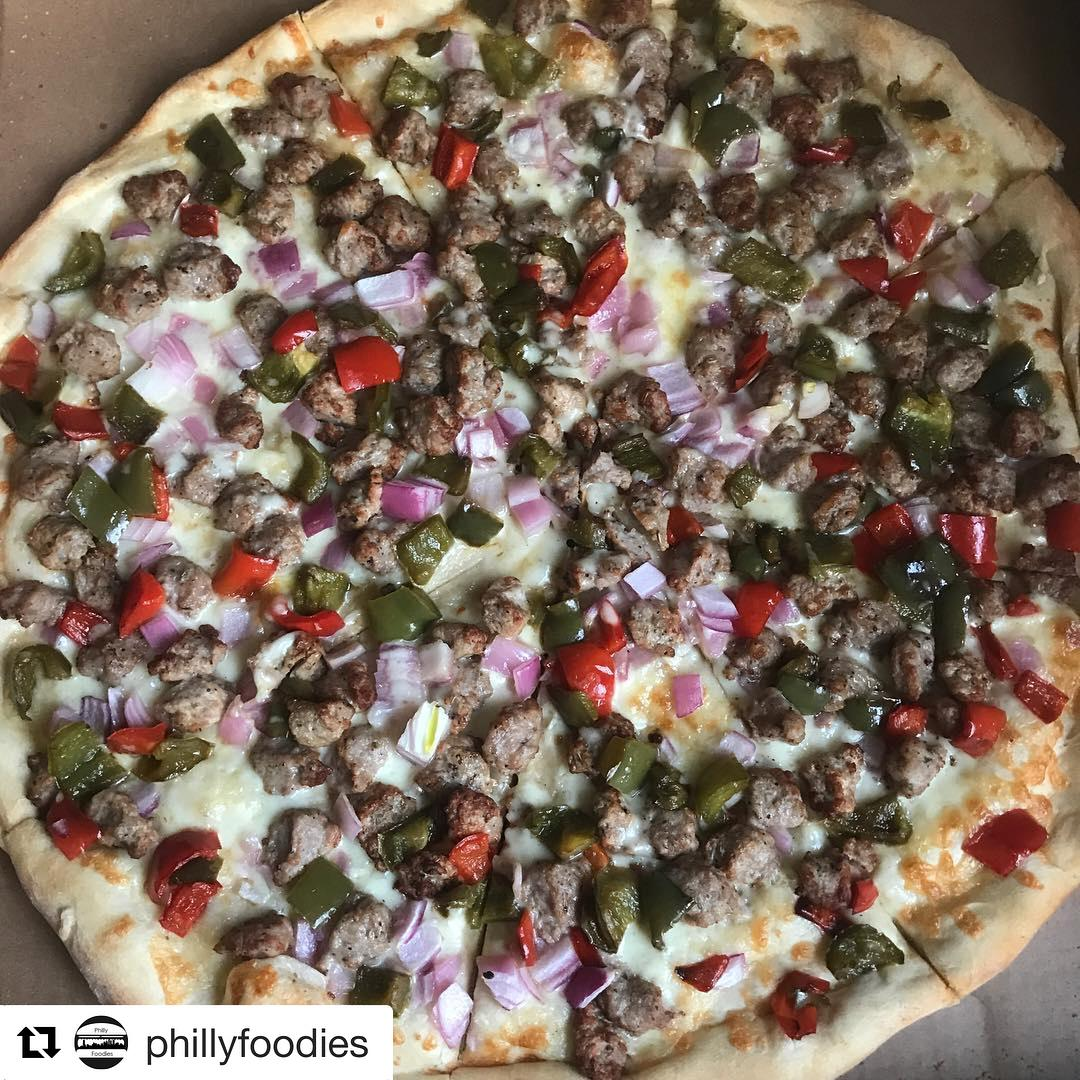Onion: (383, 907, 588, 1032), (383, 434, 561, 538), (656, 356, 764, 468), (361, 628, 456, 738), (461, 612, 561, 704), (676, 574, 734, 728), (124, 328, 227, 412), (568, 285, 673, 360), (193, 675, 280, 753), (229, 231, 322, 298), (503, 103, 576, 185), (453, 403, 529, 470), (104, 508, 176, 567), (130, 605, 248, 641), (354, 274, 421, 332)
Peppers: (848, 494, 1002, 578), (270, 312, 408, 388), (132, 825, 231, 924), (867, 692, 1041, 748), (848, 201, 927, 316), (564, 621, 636, 736), (465, 247, 569, 326), (591, 865, 690, 944), (69, 453, 166, 529), (841, 79, 956, 143), (561, 221, 636, 318), (958, 801, 1056, 874), (193, 113, 256, 217), (761, 657, 844, 729), (108, 701, 183, 772), (673, 7, 754, 71), (45, 725, 120, 793), (361, 577, 437, 644), (721, 229, 800, 293), (891, 397, 960, 468), (38, 801, 110, 869), (479, 33, 554, 98), (725, 578, 801, 641), (283, 856, 360, 917), (693, 75, 749, 153), (993, 345, 1050, 421), (428, 124, 492, 190), (933, 583, 982, 669), (373, 815, 449, 868), (601, 733, 660, 800), (47, 225, 105, 293), (321, 78, 383, 141), (9, 645, 70, 709), (849, 793, 917, 849), (758, 985, 838, 1031), (432, 836, 511, 881), (829, 929, 898, 980), (927, 309, 997, 357), (985, 235, 1040, 296), (285, 439, 334, 504), (697, 767, 745, 830), (7, 389, 57, 449), (224, 548, 281, 598), (289, 569, 360, 608), (383, 61, 434, 97), (285, 605, 334, 641)
Pizza: (4, 8, 1080, 1080)
